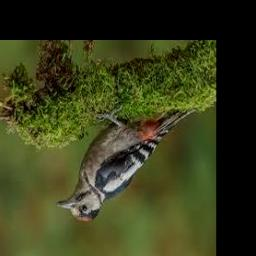Woodpecker: (57, 108, 194, 222)
